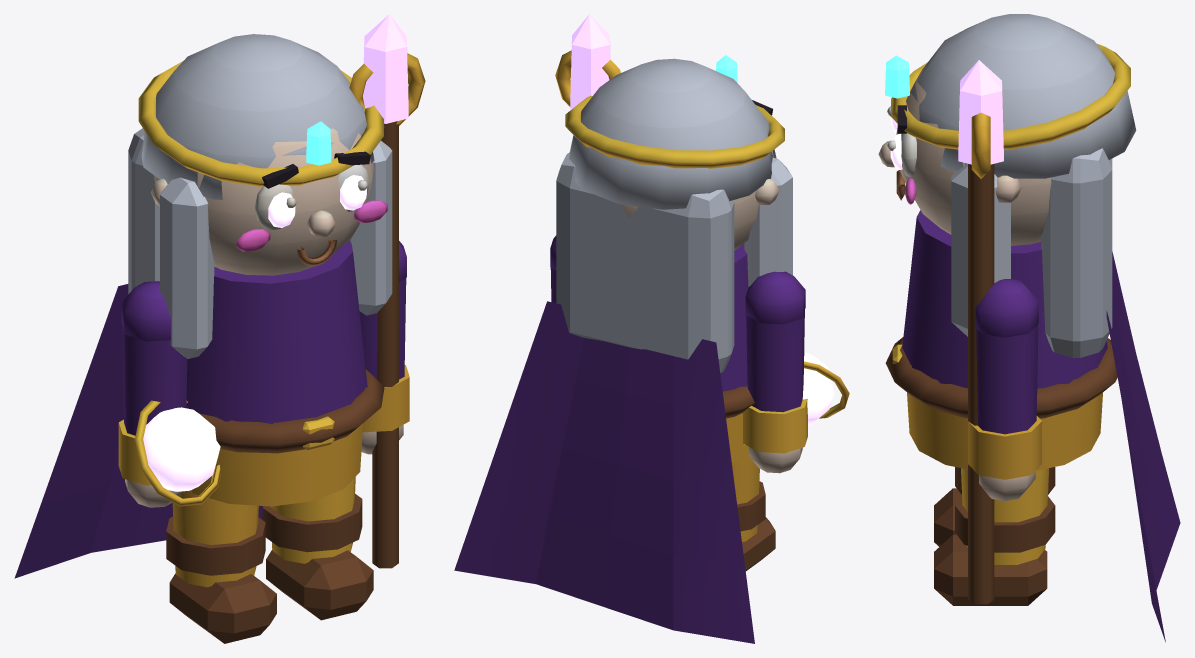
The model's file is hero_cassia.glb.
3 views of the same model, side by side, from view 1: azimuth 30°, elevation 25°; view 2: azimuth 150°, elevation 25°; view 3: azimuth 270°, elevation 25° (orthographic). The views are drawn at different scales.
Parts seen in each view (by area): view 1: body_t0_palette, legl_t0_palette, armr_t0_palette, legr_t0_palette, arml_t0_palette, arml_t0_glow_violet, armr_t0_crystal_violet, body_t0_glow_violet, body_t0_crystal; view 2: body_t0_palette, arml_t0_palette, legl_t0_palette, armr_t0_crystal_violet, arml_t0_glow_violet, armr_t0_palette; view 3: body_t0_palette, armr_t0_palette, legr_t0_palette, armr_t0_crystal_violet, legl_t0_palette, body_t0_crystal.
Boxes of the visible parts, x1,y1,x2,y2 form: body_t0_palette: [14, 34, 392, 578]; legl_t0_palette: [166, 490, 276, 643]; armr_t0_palette: [349, 53, 425, 568]; legr_t0_palette: [262, 477, 373, 620]; arml_t0_palette: [118, 281, 220, 507]; arml_t0_glow_violet: [143, 407, 220, 491]; armr_t0_crystal_violet: [363, 14, 408, 123]; body_t0_glow_violet: [268, 175, 366, 227]; body_t0_crystal: [306, 121, 331, 165]; body_t0_palette: [454, 58, 792, 643]; arml_t0_palette: [743, 271, 849, 473]; legl_t0_palette: [732, 444, 775, 571]; armr_t0_crystal_violet: [570, 14, 610, 108]; arml_t0_glow_violet: [802, 352, 834, 425]; armr_t0_palette: [550, 50, 620, 303]; body_t0_palette: [878, 14, 1180, 642]; armr_t0_palette: [968, 112, 1041, 604]; legr_t0_palette: [934, 468, 1055, 605]; armr_t0_crystal_violet: [958, 60, 1003, 164]; legl_t0_palette: [934, 467, 1055, 546]; body_t0_crystal: [885, 55, 909, 98].
Size of the model in its own units: 0.32 by 0.525 by 0.253.
